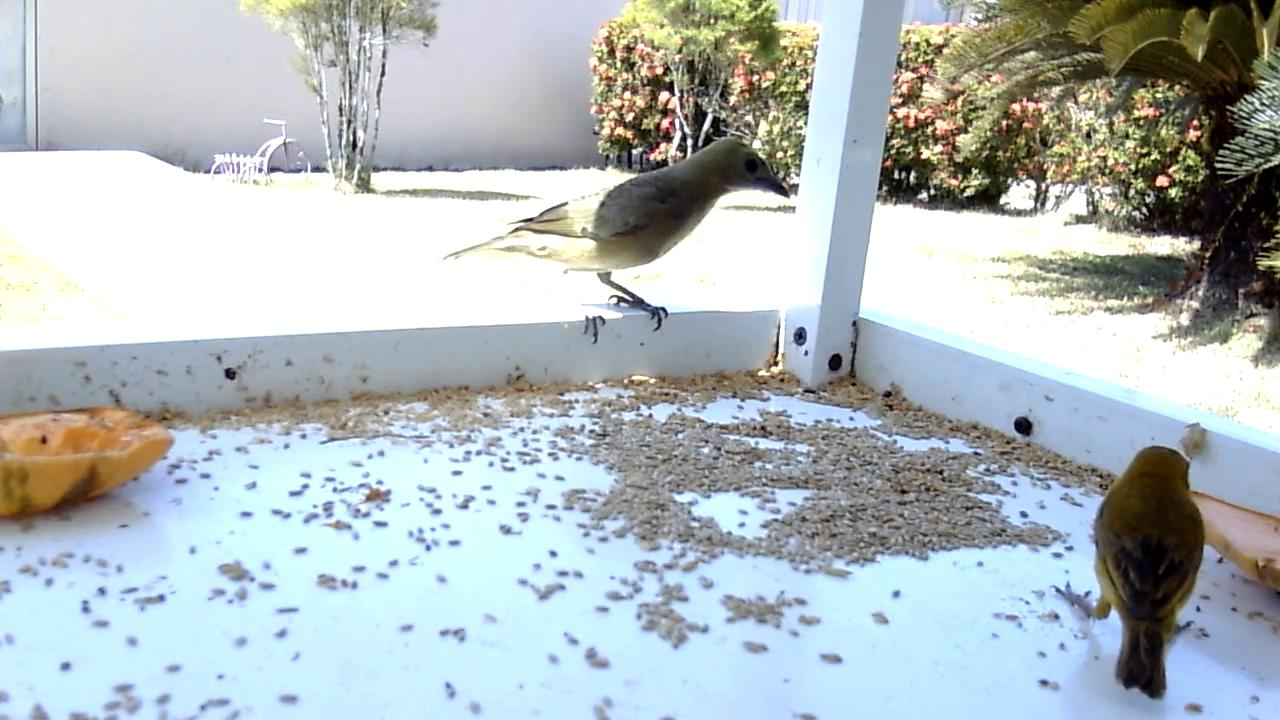canario_do_amazonas: (1049, 447, 1208, 702)
sanhaco_do_coqueiro: (440, 137, 795, 348)
